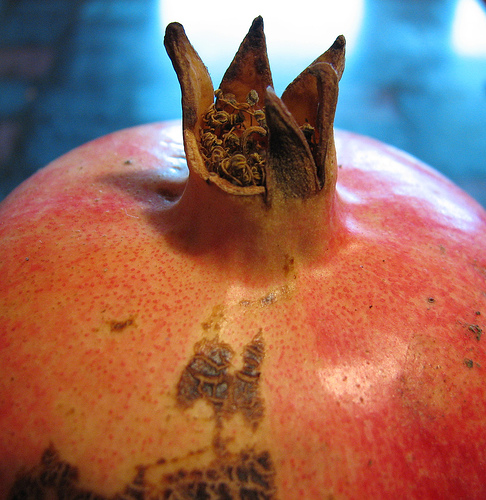pomogranate: (0, 10, 484, 498)
